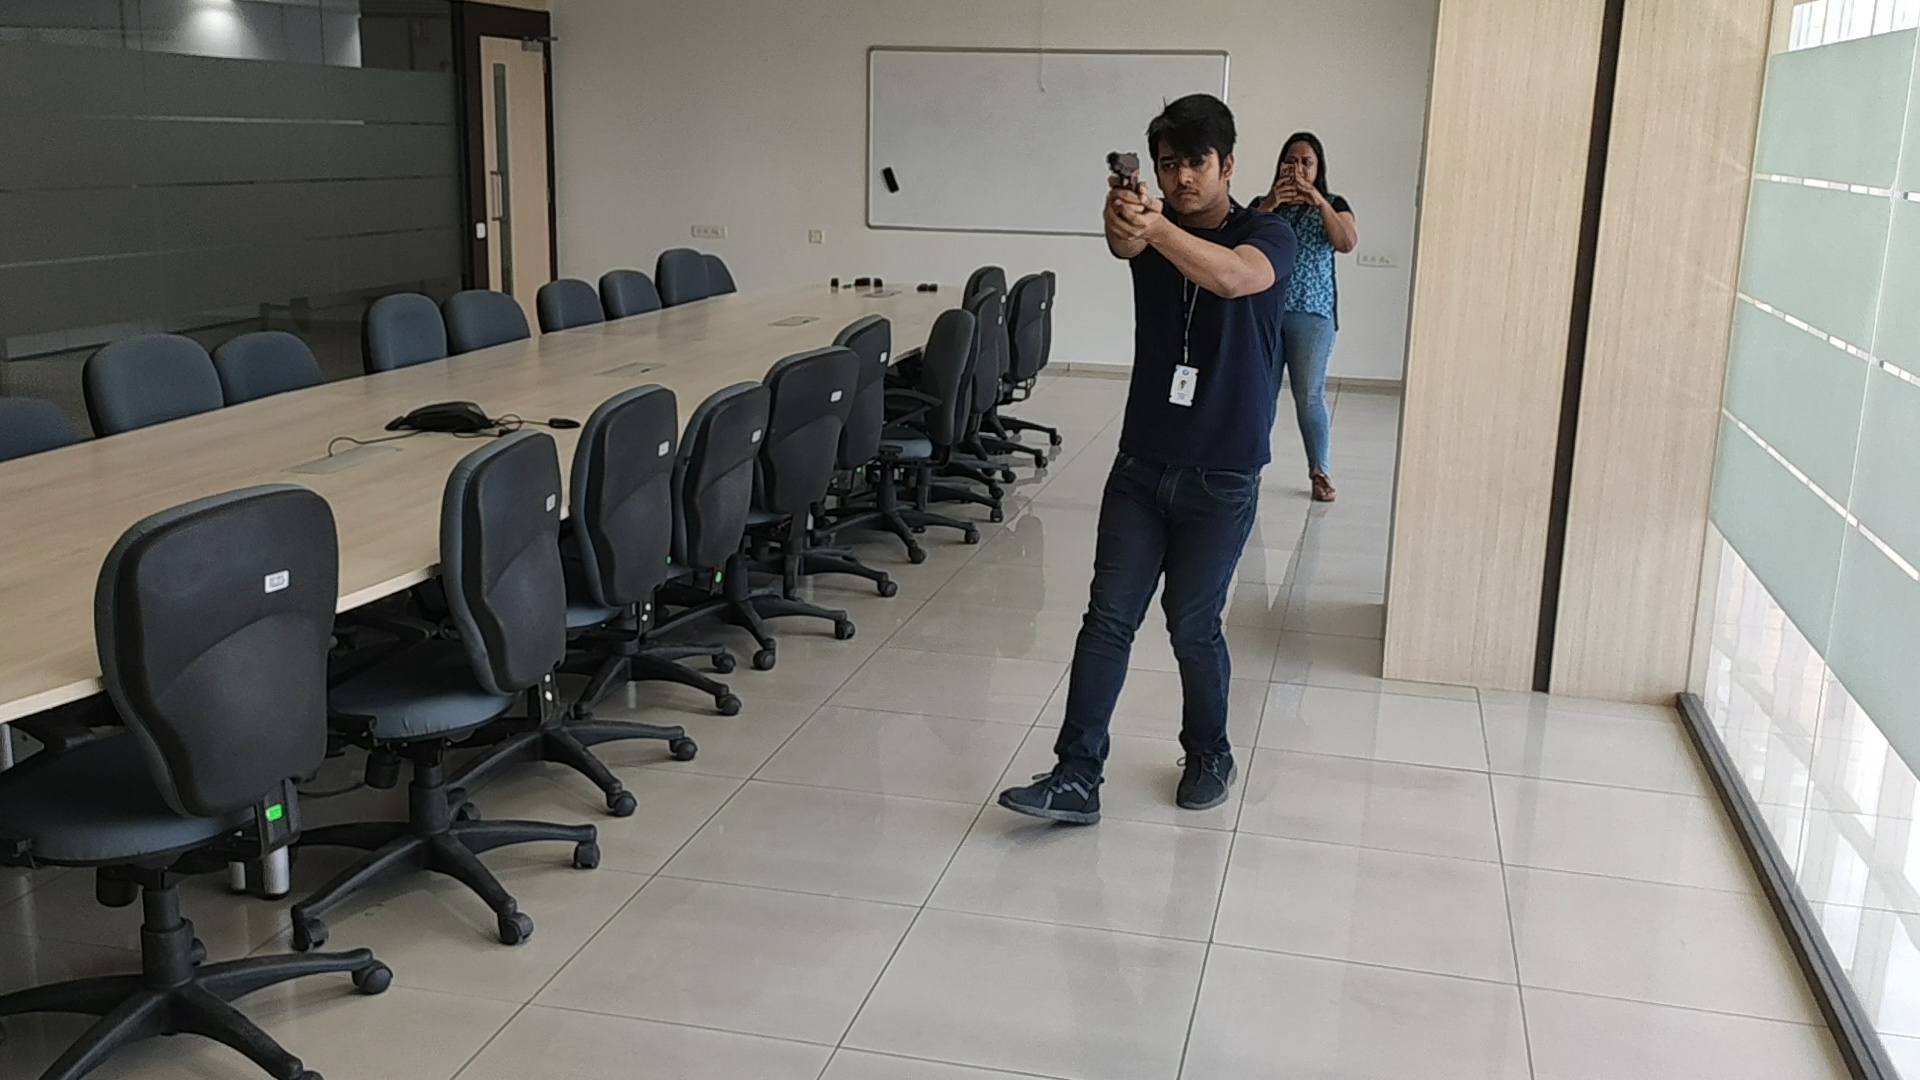gun: (1101, 148, 1139, 189)
